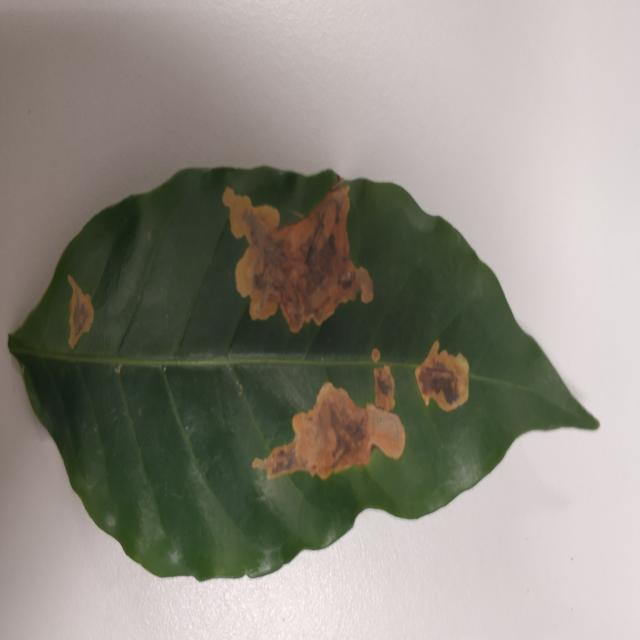Plaga-Minador: (7, 166, 600, 585)
